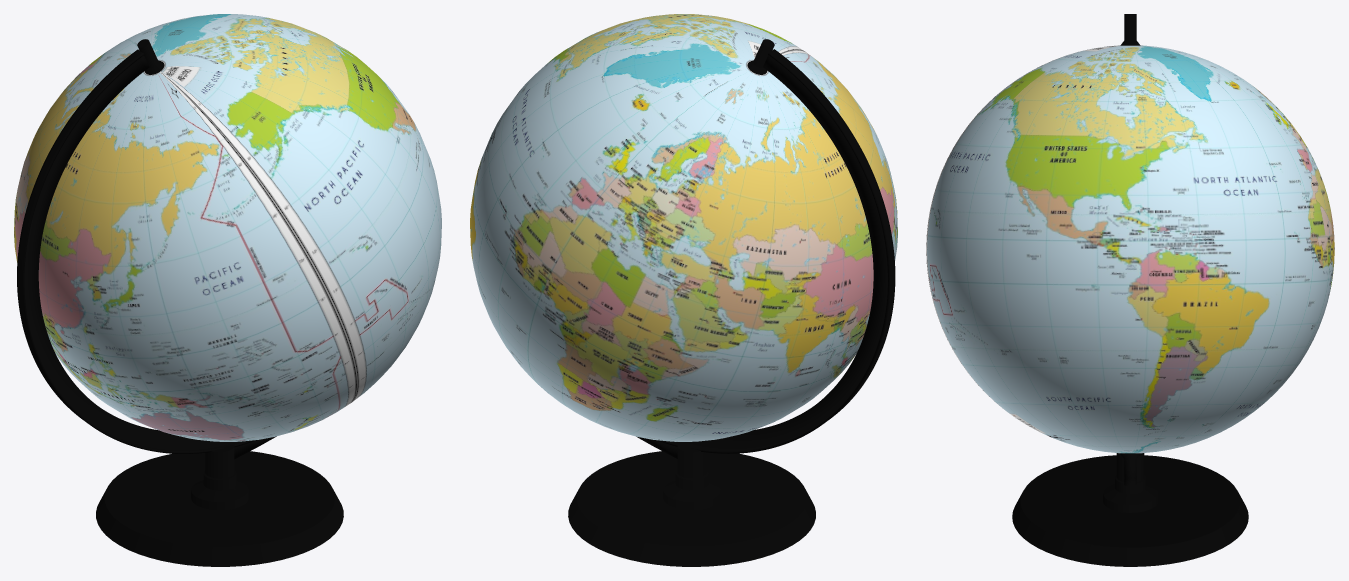
The model's file is Globe.glb.
The picture shows the model from 3 angles, left to right: view 1: azimuth 30°, elevation 25°; view 2: azimuth 150°, elevation 25°; view 3: azimuth 270°, elevation 25°; orthographic projection. The views are drawn at different scales.
Parts seen in each view (by area): view 1: Globe; view 2: Globe; view 3: Globe.
Part boxes in pixels (x1,y1,x2,y2): Globe: (14, 14, 441, 566); Globe: (470, 14, 897, 566); Globe: (926, 14, 1334, 566).
Size of the model in its own units: 1.21 by 1.45 by 1.14.
Materials: 2 (1 with a texture image).
